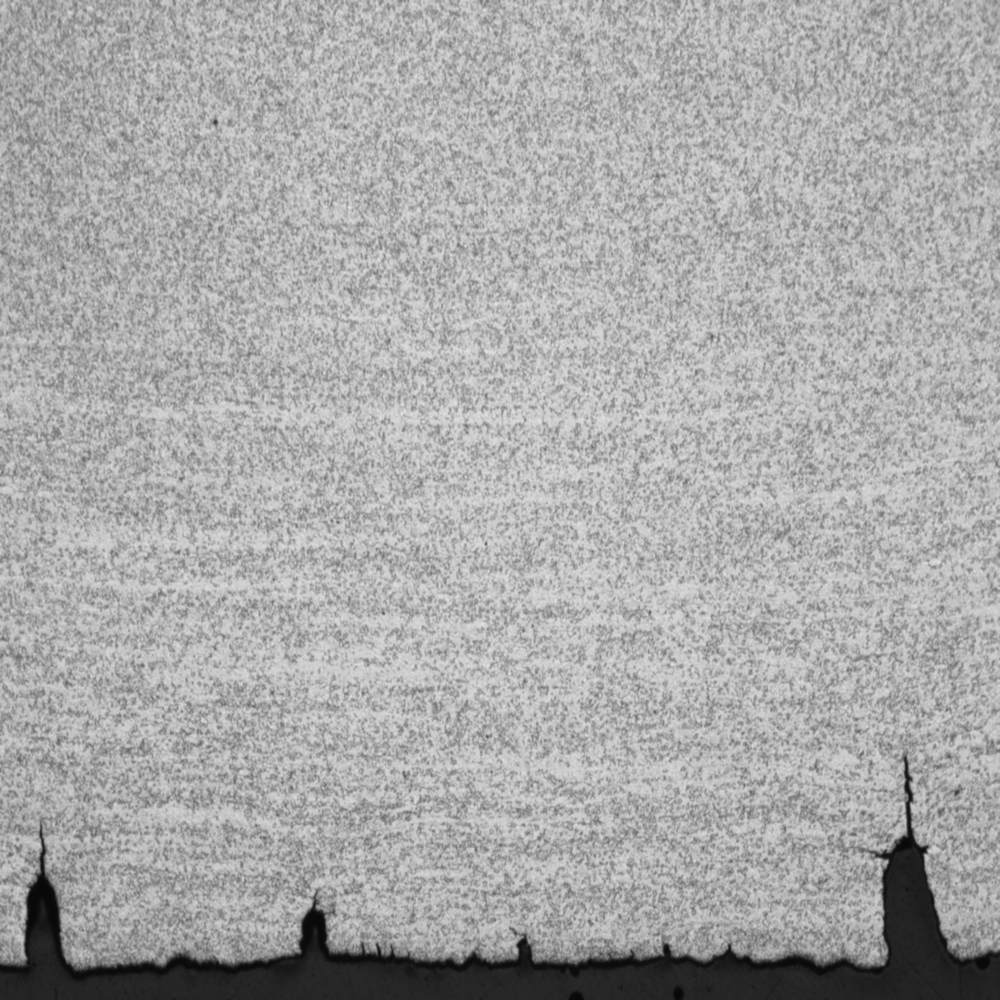crack: (837, 740, 968, 968), (15, 809, 81, 986), (279, 881, 338, 947), (503, 934, 547, 969)
